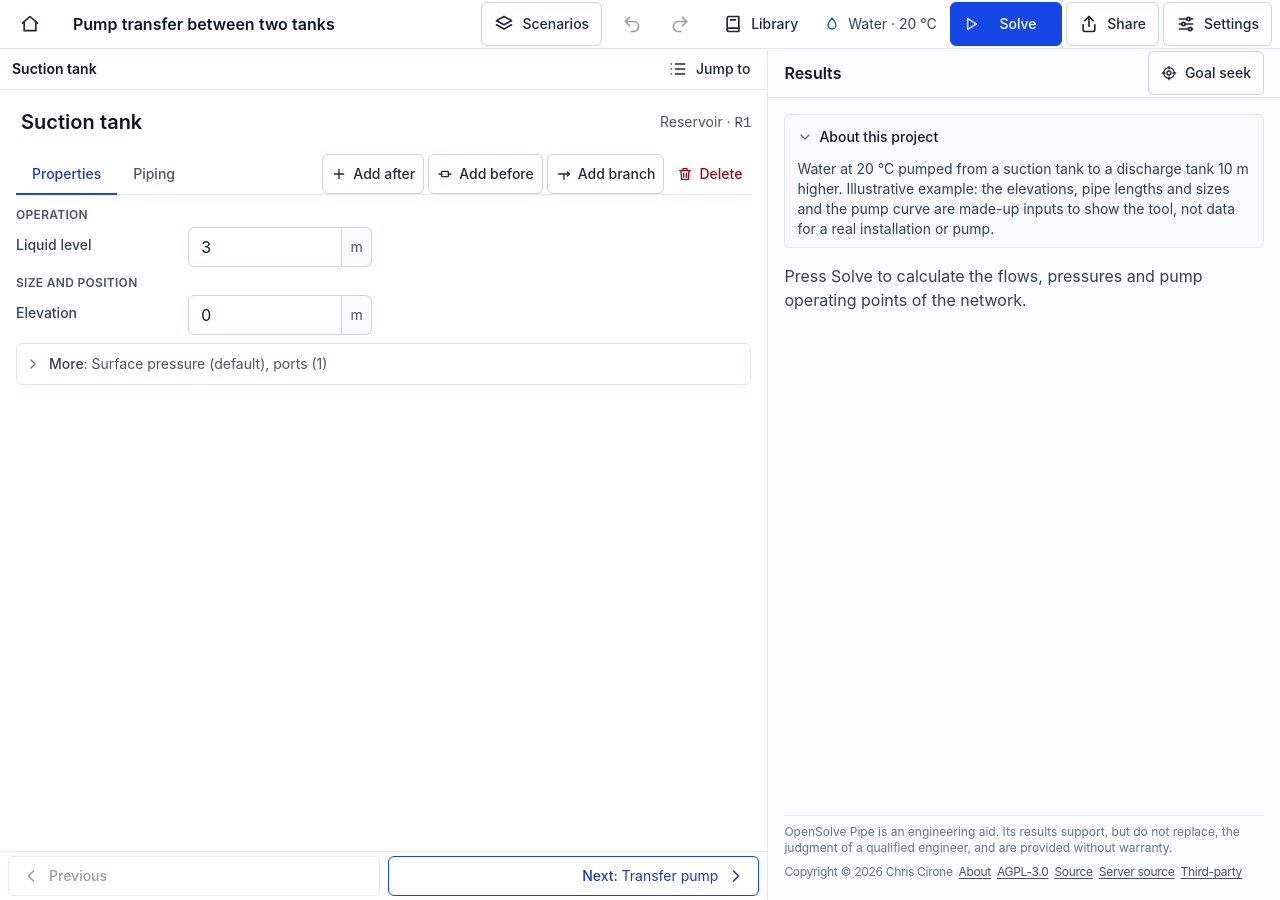
after a reversal since the solve, the Results pane names a connection as solved › heads the trace with the ends its flow and pipe numbers refer to
Click the button "Solve".
click(1006, 24)  # box [950, 2, 1062, 46]
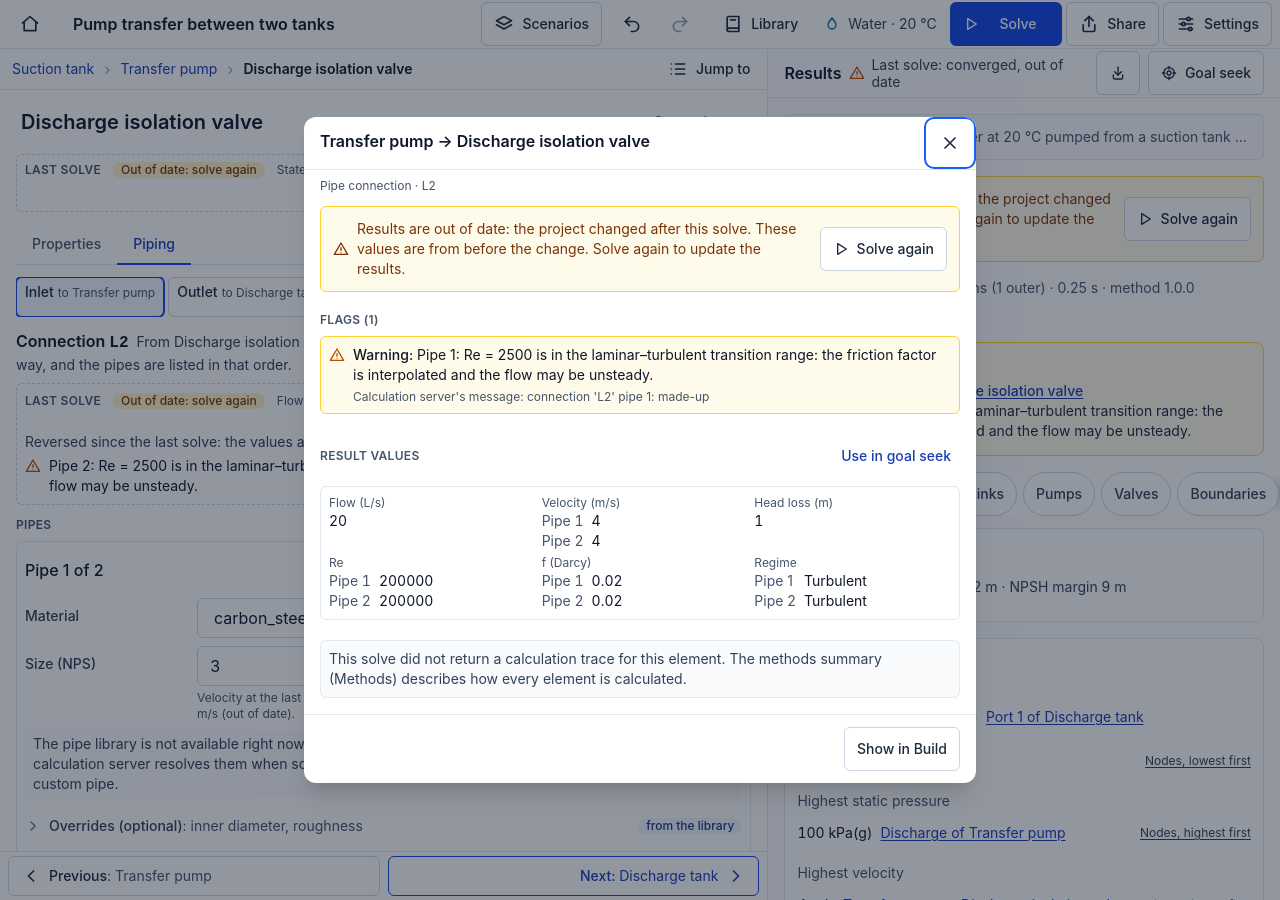
Now the text "Pipe 1: Re = 2500" is shown, box [353, 346, 936, 383]
